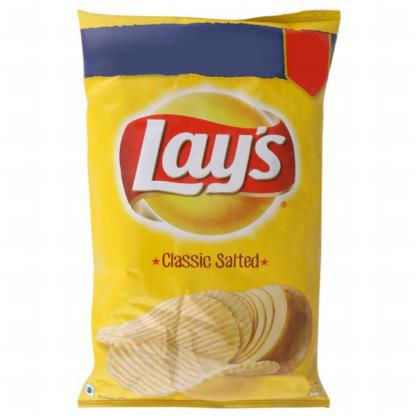classicsalted: (76, 7, 341, 408)
